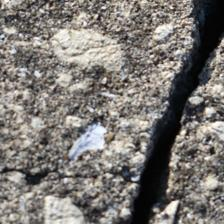Crack: (124, 3, 223, 218)
